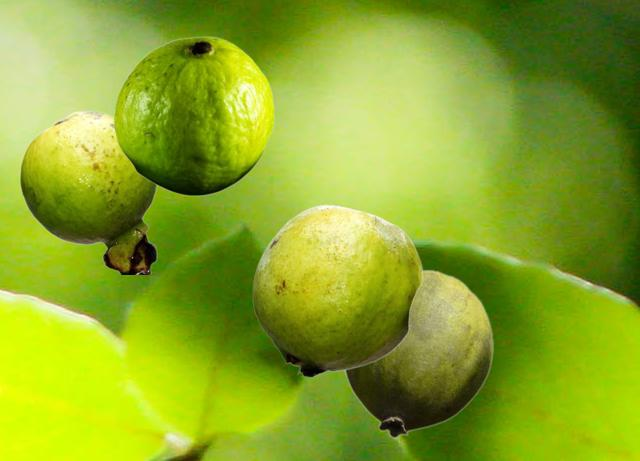guava: (252, 204, 422, 377), (113, 36, 273, 195), (343, 269, 493, 437), (19, 110, 157, 273)
